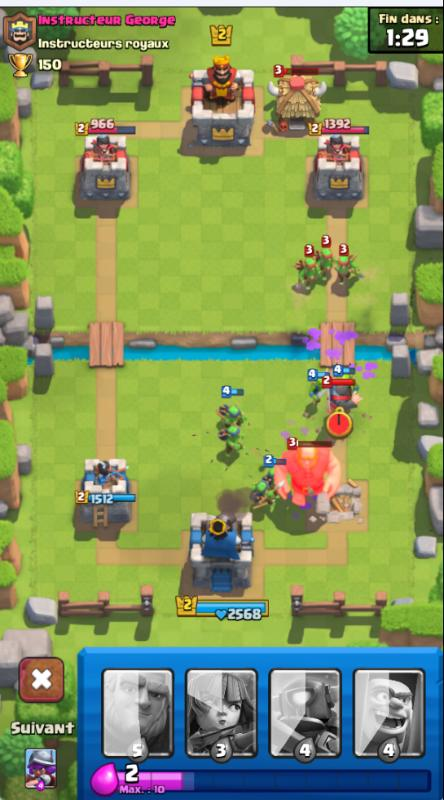chevalier: (325, 381, 358, 426)
geant: (276, 446, 340, 507)
gobelin: (306, 367, 329, 407)
gobelin_lances: (217, 425, 247, 465), (296, 251, 322, 296), (248, 481, 276, 522), (336, 257, 366, 294), (215, 403, 250, 431), (315, 248, 337, 287), (259, 466, 281, 487)
